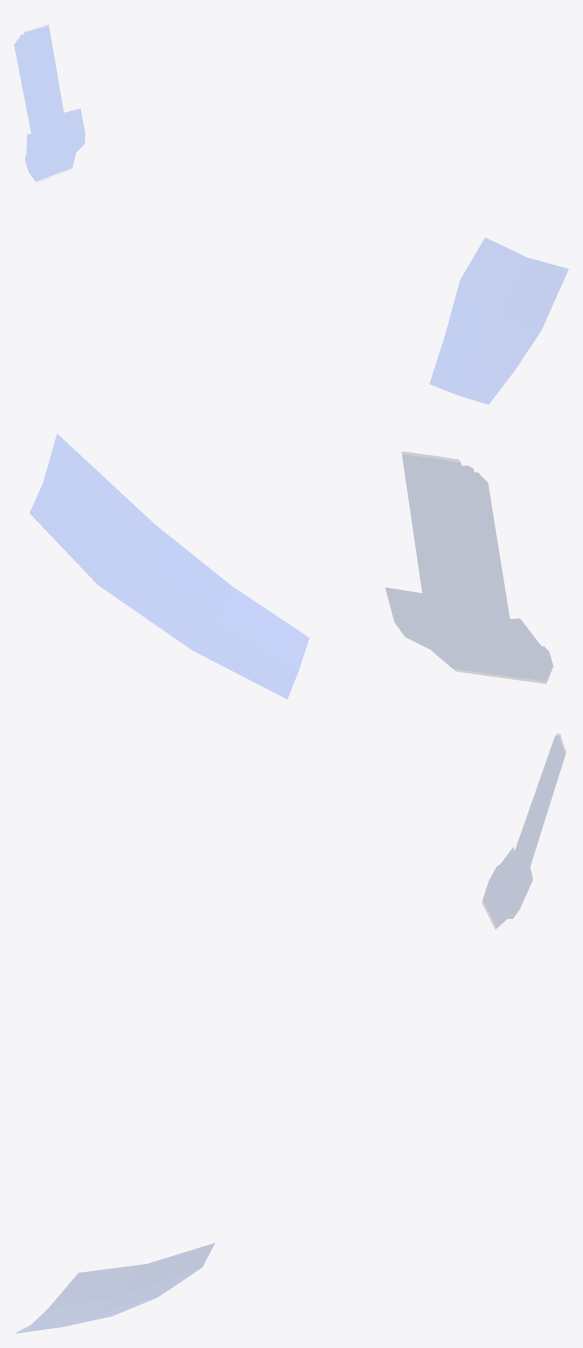
Rendered from pano_01_highLighters_02.glb.
3 renders of one model, top to bottom at view 1: azimuth 30°, elevation 25°; view 2: azimuth 150°, elevation 25°; view 3: azimuth 270°, elevation 25°, orthographic. The views are drawn at different scales.
Parts seen in each view (by area): view 1: pano_01_plane_02, pano_01_plane_01; view 2: pano_01_plane_02, pano_01_plane_01; view 3: pano_01_plane_02, pano_01_plane_01.
Part boxes in pixels (left/top/right/bottom): pano_01_plane_02: left=430, top=238, right=568, bottom=404; pano_01_plane_01: left=14, top=24, right=84, bottom=182; pano_01_plane_02: left=30, top=434, right=308, bottom=698; pano_01_plane_01: left=386, top=452, right=552, bottom=683; pano_01_plane_02: left=17, top=1243, right=214, bottom=1332; pano_01_plane_01: left=482, top=734, right=565, bottom=929.
Size of the model in its own units: 480 by 357 by 417.
2 materials, 2 textured.
